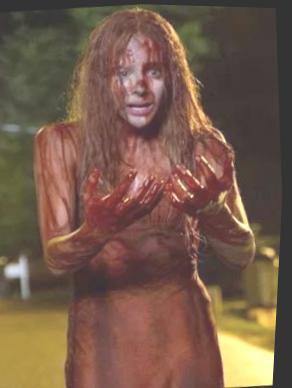Fire: (36, 8, 257, 388)
